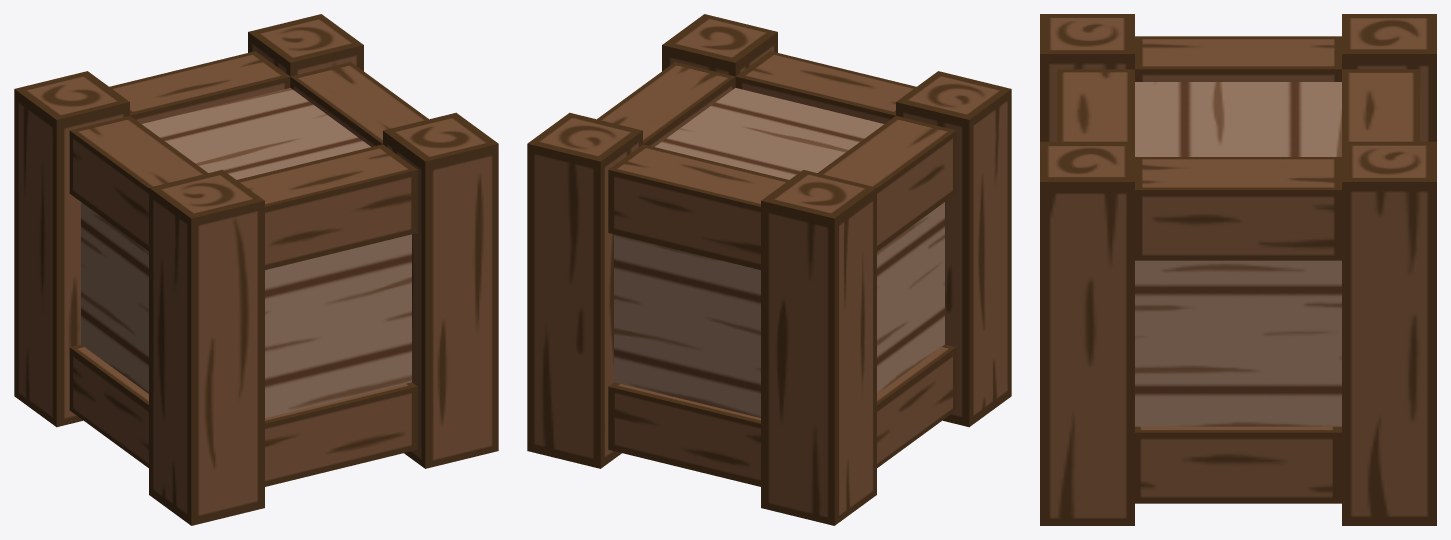
File: Asset_box.fbx
3 views of the same model, side by side, from view 1: azimuth 30°, elevation 25°; view 2: azimuth 150°, elevation 25°; view 3: azimuth 270°, elevation 25° (orthographic). The views are drawn at different scales.
Parts seen in each view (by area): view 1: Box; view 2: Box; view 3: Box.
Part boxes in pixels (x1,y1,x2,y2): Box: (14,14,498,525); Box: (527,14,1011,525); Box: (1040,14,1436,525).
Size of the model in its own units: 0.533 by 0.5094 by 0.5325.
